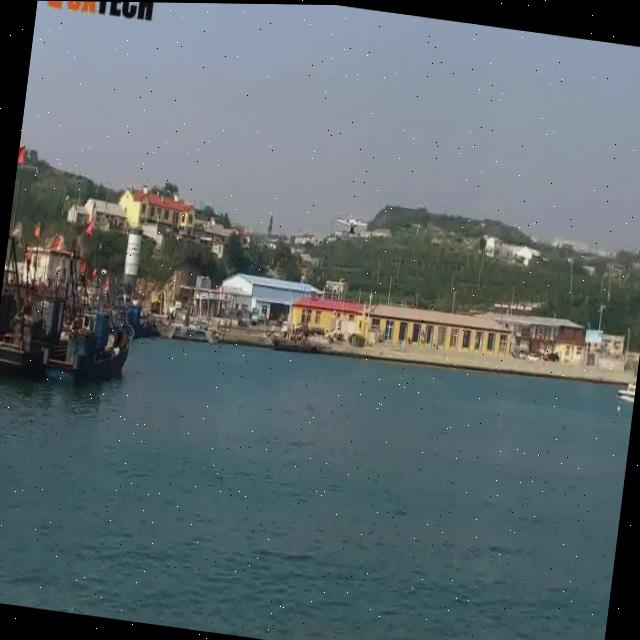drone: (335, 210, 368, 236)
